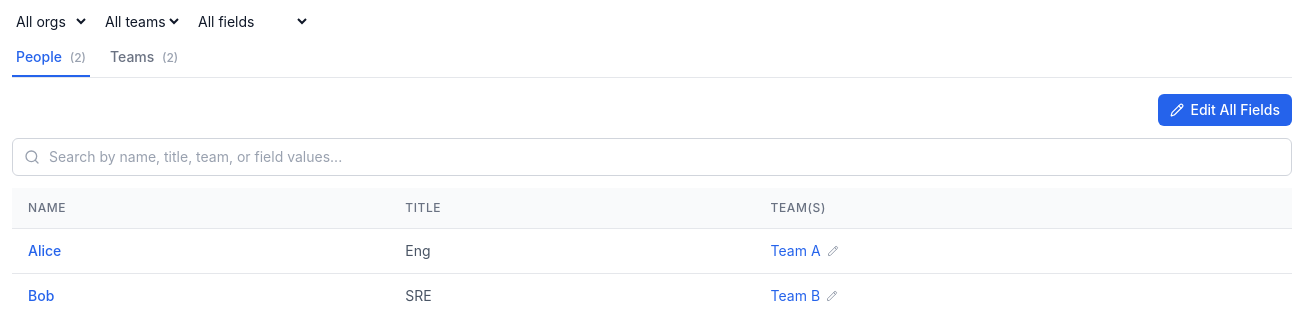
DataQualityTab › org filter › filters people by org when org is selected
This screenshot has width=1304, height=319.
# Select org1 filter
Select "Org One" in the dropdown with test id "org-filter" at (50, 22), box [12, 12, 89, 31]
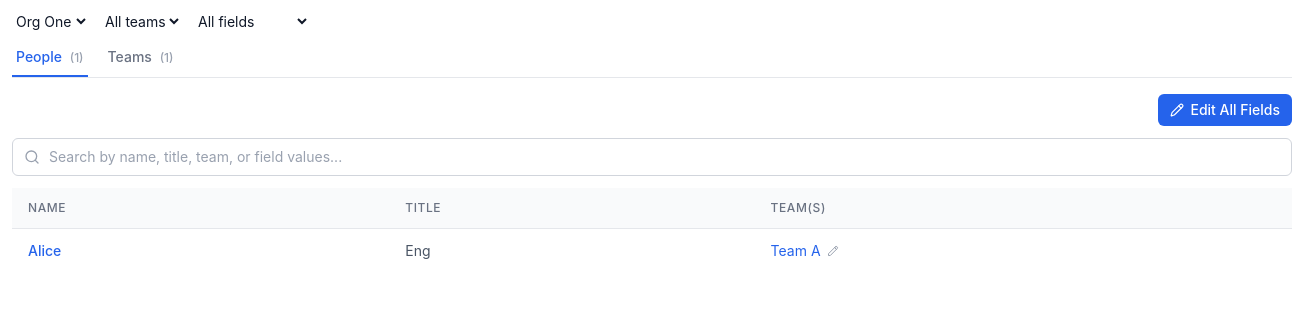
Expected: the text "Alice" is shown, [28, 241, 61, 261]
Expected: the text "Bob" is gone
